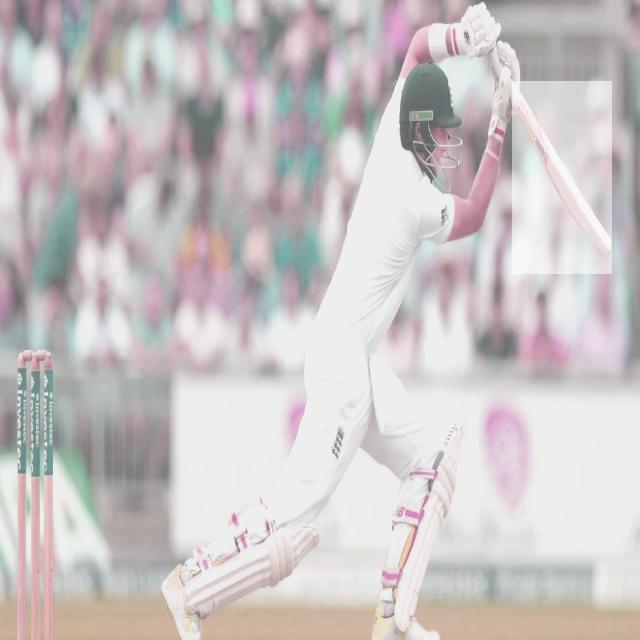bat: (516, 80, 611, 273)
